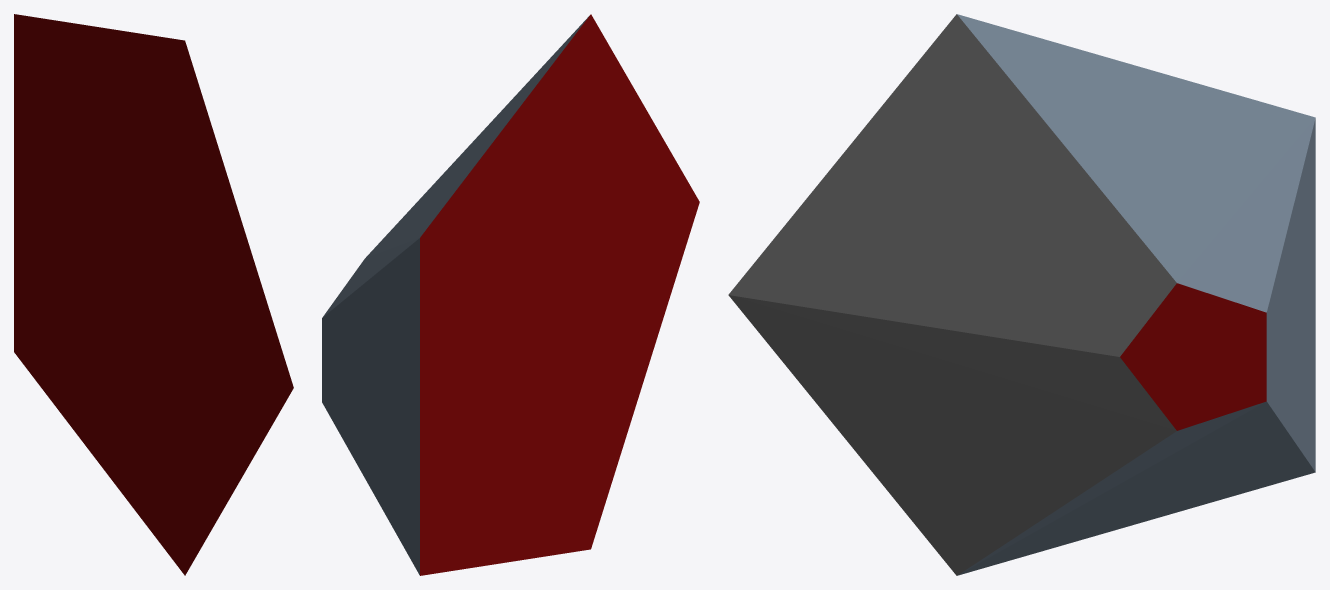
Rendered from tharglet.obj.
3 renders of one model, left to right at view 1: azimuth 30°, elevation 25°; view 2: azimuth 150°, elevation 25°; view 3: azimuth 270°, elevation 25°, orthographic. The views are drawn at different scales.
Size of the model in its own units: 18 by 76 by 72.
